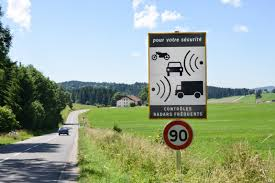Speed_limit_90km: (164, 121, 193, 149)
